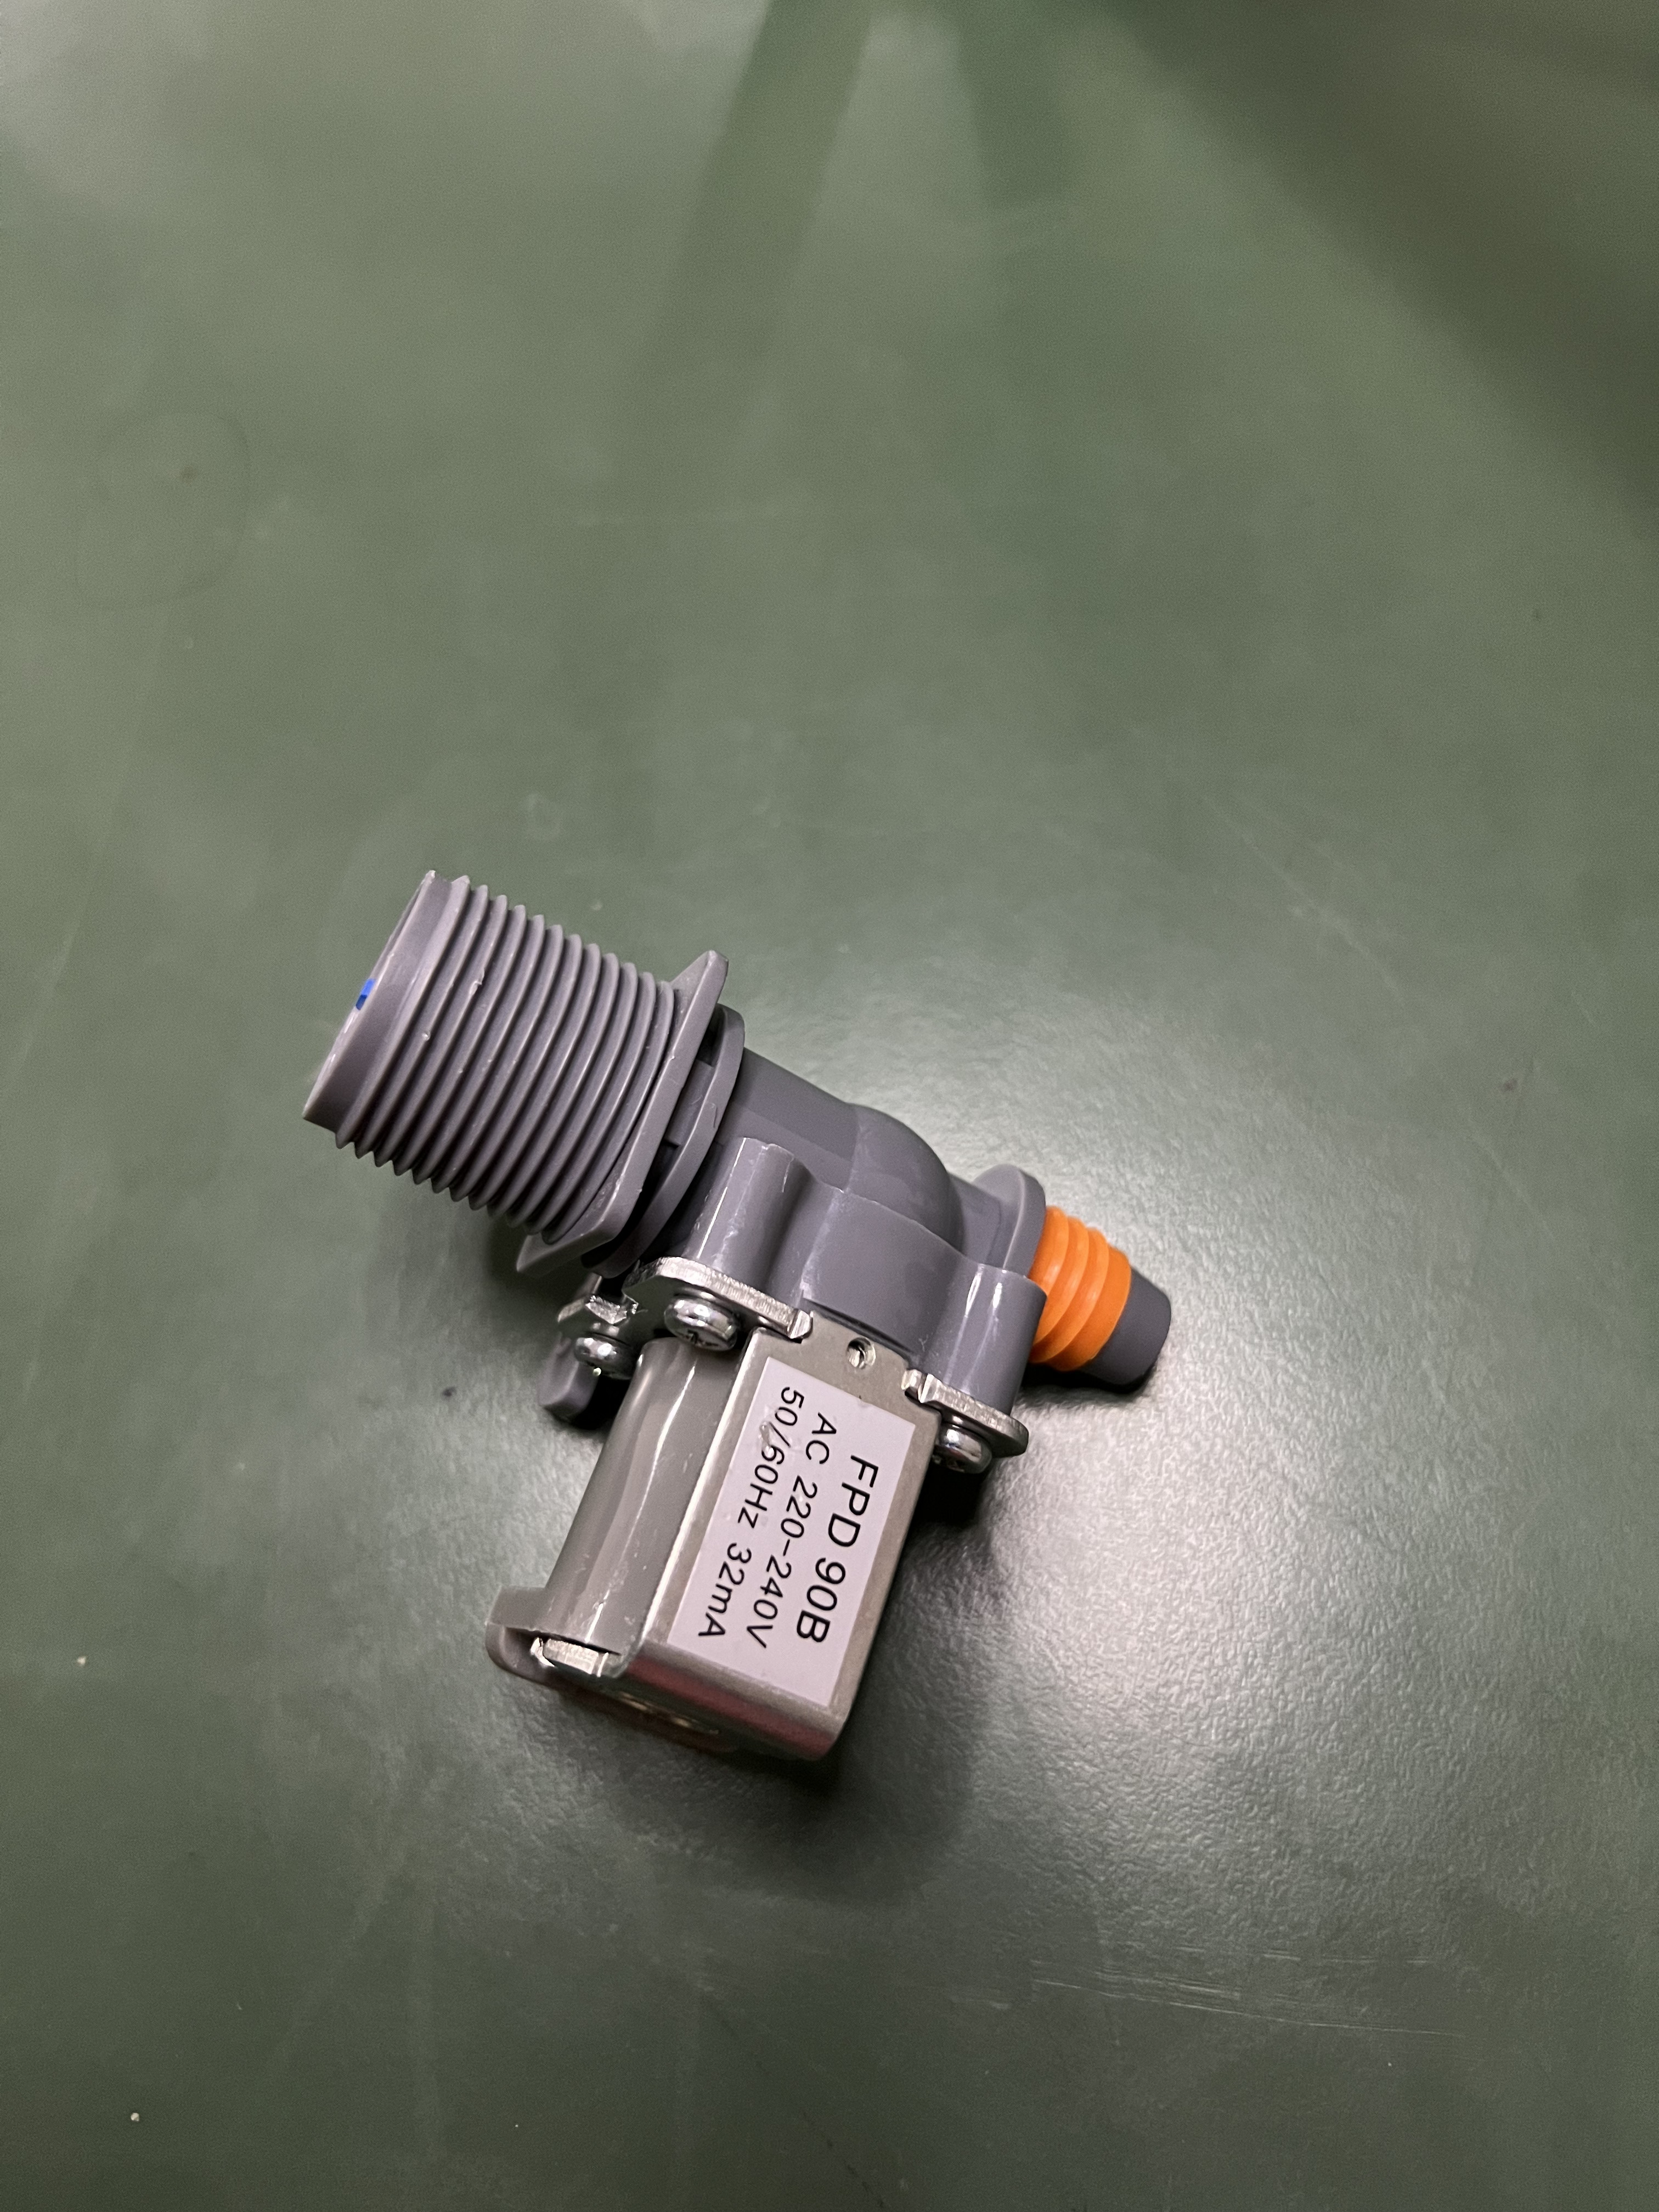inlet_valves: (319, 867, 1182, 1778)
